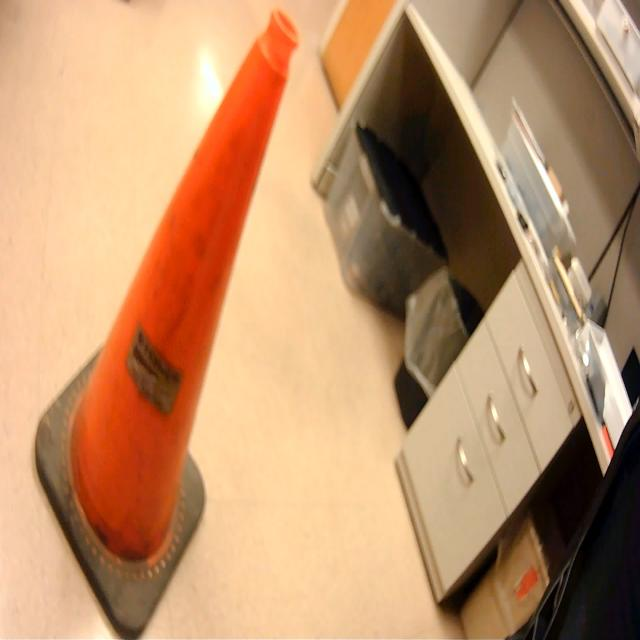traffic cone: (32, 1, 306, 640)
